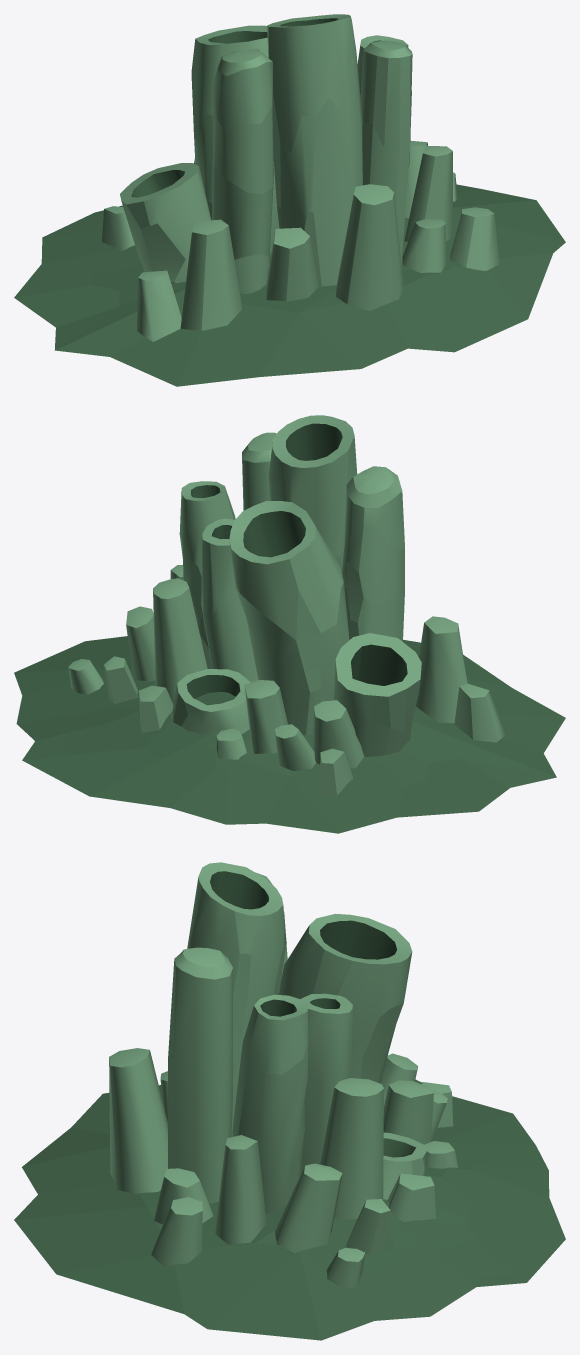
The model's file is coral_tube_set_E_dense.fbx.
3 renders of one model, top to bottom at view 1: azimuth 30°, elevation 25°; view 2: azimuth 150°, elevation 25°; view 3: azimuth 270°, elevation 25°, orthographic. The views are drawn at different scales.
Visible parts, largest first — view 1: coral_tube_set_E_dense_base, coral_tube_set_E_dense_A, coral_tube_set_E_dense_G, coral_tube_set_E_dense_H, coral_tube_set_E_dense_C, coral_tube_set_E_dense_small_A, coral_tube_set_E_dense_small_G, coral_tube_set_E_dense_B, coral_tube_set_E_dense_small_I, coral_tube_set_E_dense_small_M, coral_tube_set_E_dense_small_S, coral_tube_set_E_dense_small_L (+4 smaller); view 2: coral_tube_set_E_dense_base, coral_tube_set_E_dense_B, coral_tube_set_E_dense_G, coral_tube_set_E_dense_A, coral_tube_set_E_dense_C, coral_tube_set_E_dense_F, coral_tube_set_E_dense_small_C, coral_tube_set_E_dense_E, coral_tube_set_E_dense_small_G, coral_tube_set_E_dense_D, coral_tube_set_E_dense_small_J, coral_tube_set_E_dense_small_P (+9 smaller); view 3: coral_tube_set_E_dense_base, coral_tube_set_E_dense_H, coral_tube_set_E_dense_B, coral_tube_set_E_dense_D, coral_tube_set_E_dense_A, coral_tube_set_E_dense_small_A, coral_tube_set_E_dense_small_C, coral_tube_set_E_dense_F, coral_tube_set_E_dense_small_M, coral_tube_set_E_dense_small_F, coral_tube_set_E_dense_small_J, coral_tube_set_E_dense_small_L (+7 smaller).
Boxes of the visible parts, left/top/right/bottom form: coral_tube_set_E_dense_base: left=14, top=184, right=565, bottom=386; coral_tube_set_E_dense_A: left=267, top=14, right=362, bottom=286; coral_tube_set_E_dense_G: left=212, top=49, right=273, bottom=293; coral_tube_set_E_dense_H: left=360, top=40, right=412, bottom=265; coral_tube_set_E_dense_C: left=120, top=163, right=211, bottom=283; coral_tube_set_E_dense_small_A: left=335, top=184, right=403, bottom=310; coral_tube_set_E_dense_small_G: left=180, top=219, right=242, bottom=330; coral_tube_set_E_dense_B: left=191, top=25, right=279, bottom=253; coral_tube_set_E_dense_small_I: left=266, top=227, right=318, bottom=301; coral_tube_set_E_dense_small_M: left=404, top=145, right=452, bottom=241; coral_tube_set_E_dense_small_S: left=137, top=270, right=181, bottom=341; coral_tube_set_E_dense_small_L: left=450, top=207, right=499, bottom=270; coral_tube_set_E_dense_base: left=14, top=636, right=565, bottom=833; coral_tube_set_E_dense_B: left=229, top=501, right=349, bottom=735; coral_tube_set_E_dense_G: left=341, top=466, right=404, bottom=641; coral_tube_set_E_dense_A: left=268, top=415, right=357, bottom=571; coral_tube_set_E_dense_C: left=334, top=633, right=421, bottom=756; coral_tube_set_E_dense_F: left=201, top=518, right=258, bottom=682; coral_tube_set_E_dense_small_C: left=153, top=578, right=207, bottom=704; coral_tube_set_E_dense_E: left=172, top=669, right=250, bottom=735; coral_tube_set_E_dense_small_G: left=416, top=616, right=467, bottom=723; coral_tube_set_E_dense_D: left=179, top=481, right=235, bottom=668; coral_tube_set_E_dense_small_J: left=244, top=680, right=287, bottom=753; coral_tube_set_E_dense_small_P: left=312, top=700, right=363, bottom=768; coral_tube_set_E_dense_base: left=14, top=1079, right=565, bottom=1340; coral_tube_set_E_dense_H: left=168, top=947, right=232, bottom=1203; coral_tube_set_E_dense_B: left=279, top=913, right=412, bottom=1083; coral_tube_set_E_dense_D: left=232, top=994, right=308, bottom=1213; coral_tube_set_E_dense_A: left=187, top=862, right=286, bottom=1136; coral_tube_set_E_dense_small_A: left=109, top=1048, right=167, bottom=1193; coral_tube_set_E_dense_small_C: left=320, top=1078, right=383, bottom=1219; coral_tube_set_E_dense_F: left=300, top=993, right=352, bottom=1172; coral_tube_set_E_dense_small_M: left=215, top=1135, right=266, bottom=1244; coral_tube_set_E_dense_small_F: left=275, top=1163, right=342, bottom=1252; coral_tube_set_E_dense_small_J: left=383, top=1080, right=433, bottom=1144; coral_tube_set_E_dense_small_L: left=151, top=1197, right=202, bottom=1266.
Bounding box in the file's own units: 90.87 × 50.21 × 74.83.
